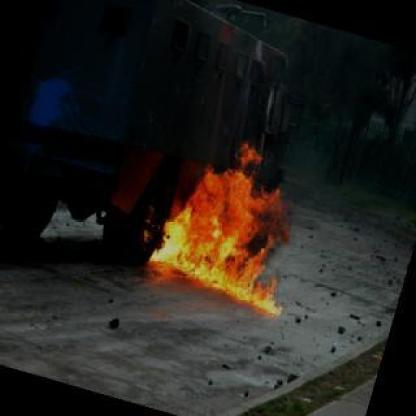Fire: (140, 149, 283, 319)
